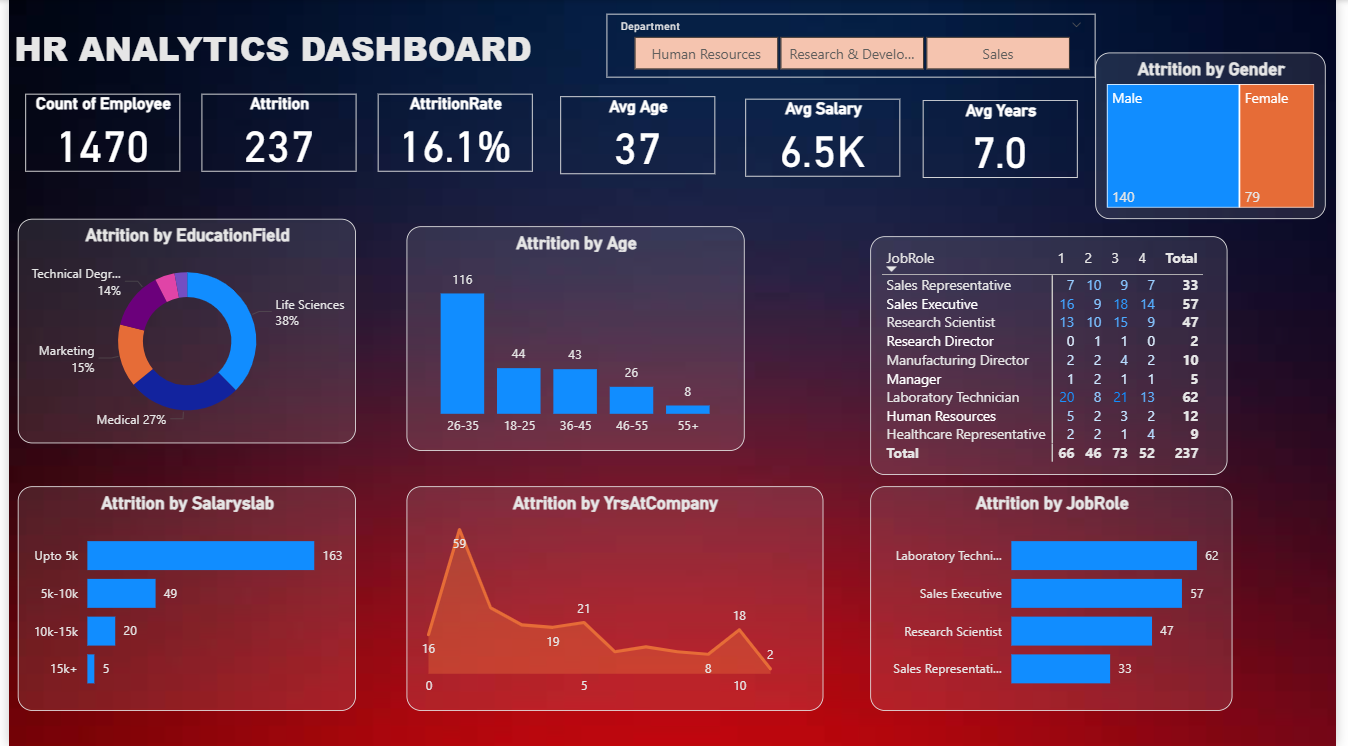

This screenshot's page, from the dashboard's own definition file:
{"tool":"powerbi","page":{"name":"Page 1","canvas":[1280,720],"ordinal":0},"visuals":[{"type":"card","title":"Count of Employee","fields":{"Values":["CountNonNull(HR_Analytics.EmpID)"]},"box":[15.1,90.7,149.6,75.5],"z":0},{"type":"card","title":"Attrition","fields":{"Values":["Sum(HR_Analytics.AttritionCount)"]},"box":[185.2,90.7,149.6,75.5],"z":1000},{"type":"card","title":"AttritionRate","fields":{"Values":["HR_Analytics.AttritionRate"]},"box":[355.4,90.7,149.6,75.5],"z":2000},{"type":"card","title":"Avg Age","fields":{"Values":["Avg(HR_Analytics.Age)"]},"box":[532.4,93.4,149.6,75.5],"z":3000},{"type":"card","title":"Avg Salary","fields":{"Values":["Avg(HR_Analytics.MonthlyIncome)"]},"box":[710.8,94.8,149.6,75.5],"z":4000},{"type":"card","title":"Avg Years","fields":{"Values":["Avg(HR_Analytics.YearsAtCompany)"]},"box":[882.3,96.2,149.6,75.5],"z":5000},{"type":"donutChart","title":"Attrition by EducationField","fields":{"Category":["HR_Analytics.EducationField"],"Y":["Sum(HR_Analytics.AttritionCount)"]},"box":[8.2,211.4,326.6,216.8],"z":6000},{"type":"columnChart","title":"Attrition by Age","fields":{"Category":["HR_Analytics.AgeGroup"],"Y":["Sum(HR_Analytics.AttritionCount)"]},"box":[383.7,218.5,326.6,216.8],"z":7000},{"type":"pivotTable","fields":{"Rows":["HR_Analytics.JobRole"],"Columns":["HR_Analytics.JobSatisfaction"],"Values":["Sum(HR_Analytics.AttritionCount)"]},"box":[831.6,227.8,344.4,230.5],"z":8000},{"type":"barChart","title":"Attrition by Salaryslab","fields":{"Category":["HR_Analytics.SalarySlab"],"Y":["Sum(HR_Analytics.AttritionCount)"]},"box":[8.2,469.3,326.6,216.8],"z":9000},{"type":"barChart","title":"Attrition by JobRole","fields":{"Category":["HR_Analytics.JobRole"],"Y":["Sum(HR_Analytics.AttritionCount)"]},"box":[831.6,469.3,349.9,216.8],"z":10000},{"type":"areaChart","title":"Attrition by YrsAtCompany","fields":{"Category":["HR_Analytics.YearsAtCompany"],"Y":["Sum(HR_Analytics.AttritionCount)"]},"box":[384.2,469.3,402.1,216.8],"z":11000},{"type":"treemap","title":"Attrition by Gender","fields":{"Group":["HR_Analytics.Gender"],"Values":["Sum(HR_Analytics.AttritionCount)"]},"box":[1048.4,50.8,222.3,160.5],"z":12000},{"type":"slicer","fields":{"Values":["HR_Analytics.Department"]},"box":[576.3,13.7,472,61.7],"z":13000},{"type":"textbox","box":[0,19.2,569.5,56.3],"z":14000}]}

Visuals, with their boxes in screenshot pixels (x1, y1, x2, y2), scaled from the page's 1280x720 canvas onto the 1348x746 screenshot:
"Count of Employee" card: select_region(16, 94, 173, 172)
"Attrition" card: select_region(195, 94, 353, 172)
"AttritionRate" card: select_region(374, 94, 532, 172)
"Avg Age" card: select_region(561, 97, 718, 175)
"Avg Salary" card: select_region(749, 98, 906, 176)
"Avg Years" card: select_region(929, 100, 1087, 178)
"Attrition by EducationField" donutChart: select_region(9, 219, 353, 444)
"Attrition by Age" columnChart: select_region(404, 226, 748, 451)
pivotTable - HR_Analytics.JobRole x HR_Analytics.JobSatisfaction: select_region(876, 236, 1238, 475)
"Attrition by Salaryslab" barChart: select_region(9, 486, 353, 711)
"Attrition by JobRole" barChart: select_region(876, 486, 1244, 711)
"Attrition by YrsAtCompany" areaChart: select_region(405, 486, 828, 711)
"Attrition by Gender" treemap: select_region(1104, 53, 1338, 219)
slicer - HR_Analytics.Department: select_region(607, 14, 1104, 78)
textbox: select_region(0, 20, 600, 78)
